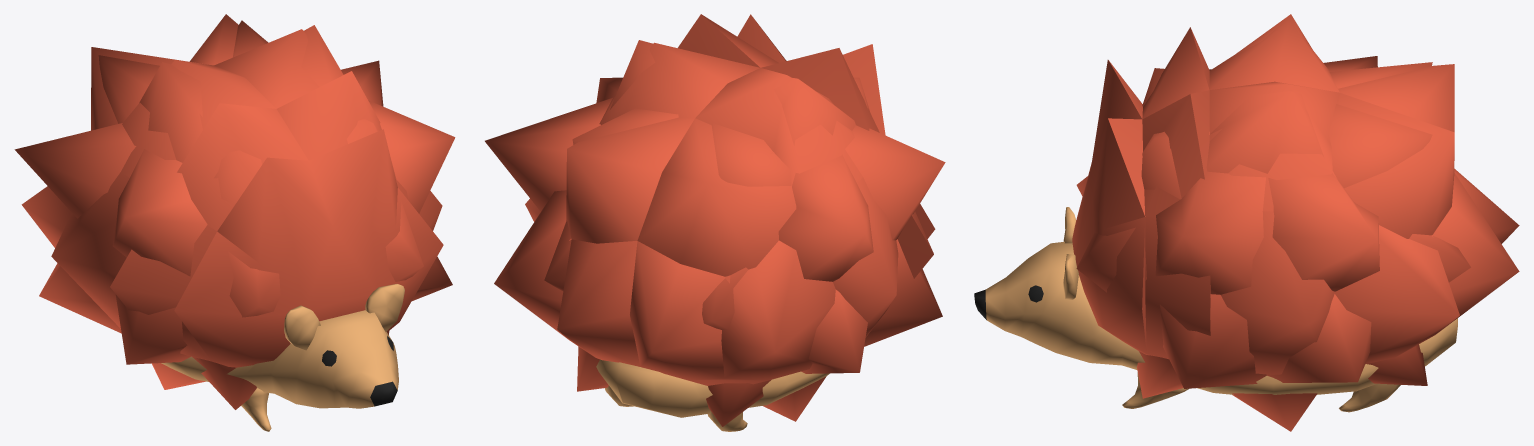
Rendered from hedgehog.fbx.
The picture shows the model from 3 angles, left to right: view 1: azimuth 30°, elevation 25°; view 2: azimuth 150°, elevation 25°; view 3: azimuth 270°, elevation 25°; orthographic projection. The views are drawn at different scales.
Parts seen in each view (by area): view 1: hedgehog, hedgehog_sphere; view 2: hedgehog, hedgehog_sphere; view 3: hedgehog, hedgehog_sphere.
Part boxes in pixels (x1=…): hedgehog: x1=21, y1=14, x2=443, y2=431; hedgehog_sphere: x1=14, y1=20, x2=455, y2=409; hedgehog: x1=494, y1=14, x2=935, y2=431; hedgehog_sphere: x1=485, y1=40, x2=945, y2=426; hedgehog: x1=974, y1=20, x2=1519, y2=412; hedgehog_sphere: x1=1076, y1=14, x2=1470, y2=431.
Size of the model in its own units: 3.59 by 3.09 by 4.46.
